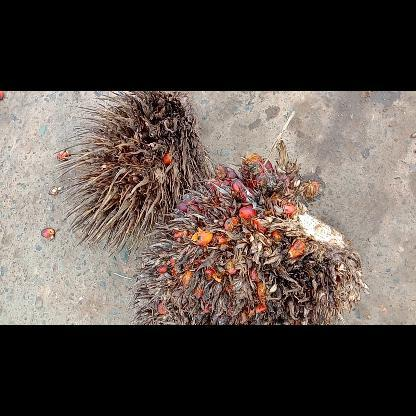Janjang kosong: (54, 91, 214, 255)
Terlalu masak: (129, 142, 367, 324)
